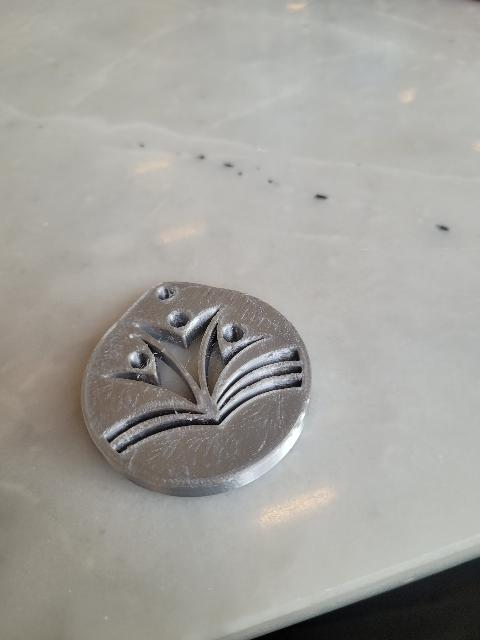Metal: (62, 277, 325, 526)
